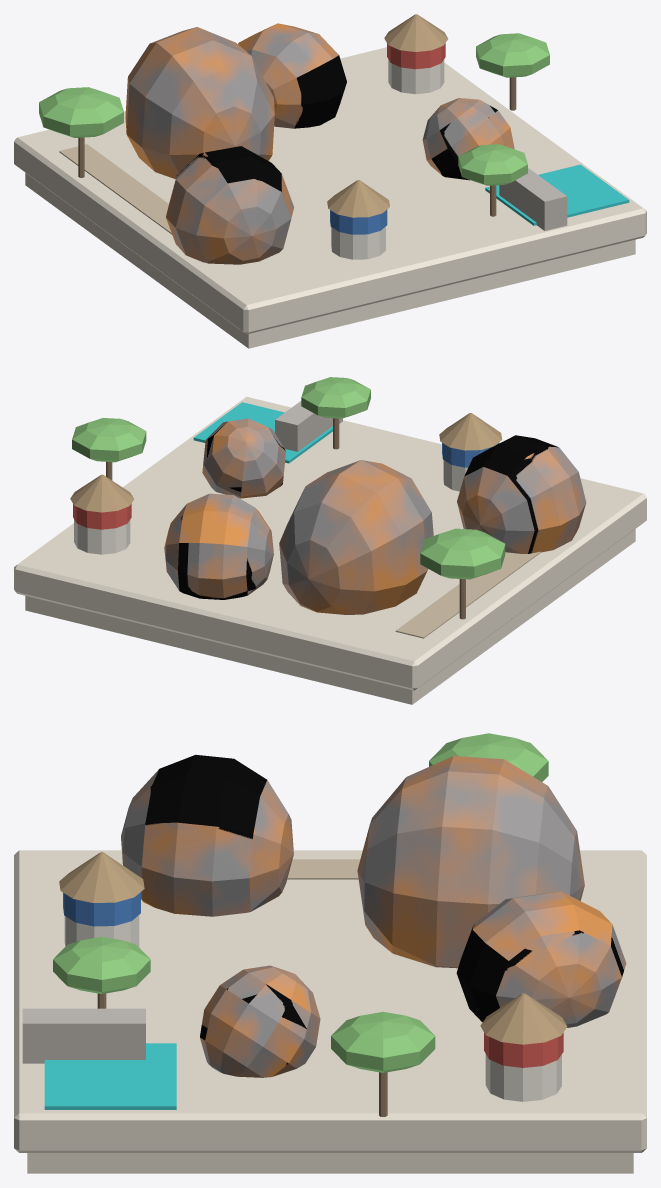
The model's file is jawai_iso.glb.
3 renders of one model, top to bottom at view 1: azimuth 30°, elevation 25°; view 2: azimuth 150°, elevation 25°; view 3: azimuth 270°, elevation 25°, orthographic. The views are drawn at different scales.
Visible parts, largest first — view 1: JawaiIso; view 2: JawaiIso; view 3: JawaiIso.
Boxes of the visible parts, x1=… form: JawaiIso: x1=14, y1=14, x2=646, y2=348; JawaiIso: x1=14, y1=377, x2=646, y2=704; JawaiIso: x1=14, y1=733, x2=646, y2=1173.
Size of the model in its own units: 8.27 by 2.83 by 7.2.
17 materials, 1 textured.
